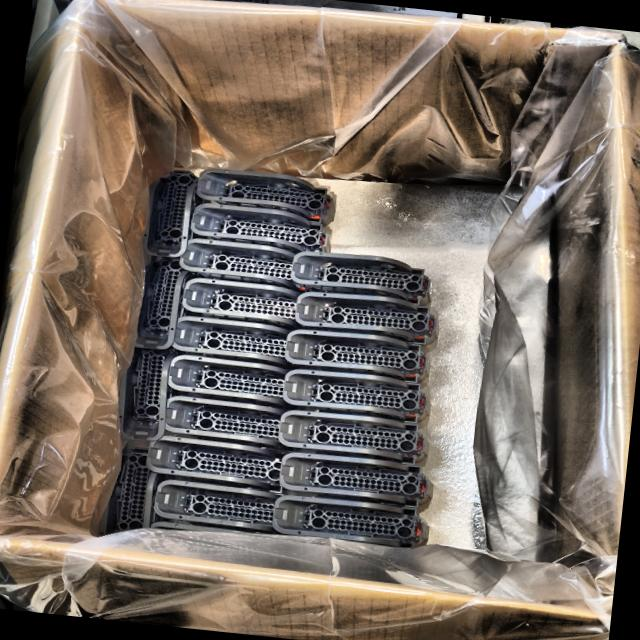P38: (277, 409, 429, 465), (272, 495, 428, 549), (278, 453, 433, 507), (196, 168, 335, 226), (284, 328, 430, 383), (296, 291, 439, 347), (145, 434, 283, 492), (283, 369, 430, 423), (290, 251, 433, 306), (153, 479, 284, 535), (190, 203, 330, 253), (171, 315, 295, 367), (165, 395, 286, 448), (167, 354, 289, 406), (178, 238, 303, 288), (181, 278, 303, 327), (140, 169, 206, 256), (132, 256, 192, 350), (98, 440, 155, 537), (117, 348, 176, 441), (151, 521, 252, 532)
